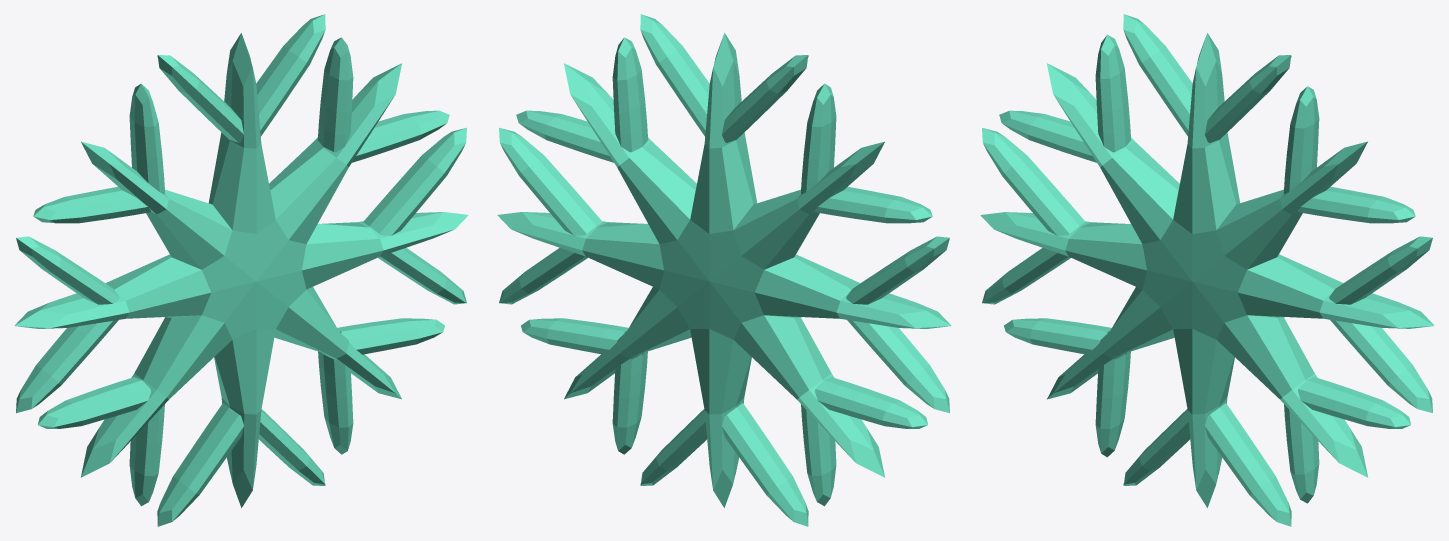
Rendered from snowflake3.glb.
3 renders of one model, left to right at view 1: azimuth 30°, elevation 25°; view 2: azimuth 150°, elevation 25°; view 3: azimuth 330°, elevation 25°, orthographic.
Visible parts, largest first — view 1: Snowflake3; view 2: Snowflake3; view 3: Snowflake3.
Part boxes in pixels (x1,y1,x2,y2): Snowflake3: (14, 14, 468, 526); Snowflake3: (497, 14, 951, 526); Snowflake3: (980, 14, 1434, 526).
Size of the model in its own units: 0.8779 by 0.8779 by 0.1008.
